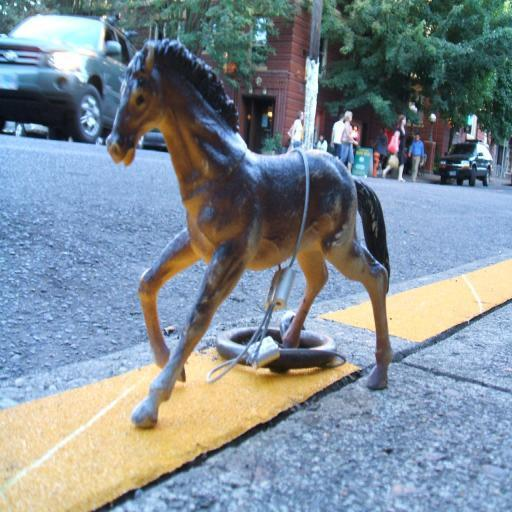horse: (104, 36, 393, 432)
